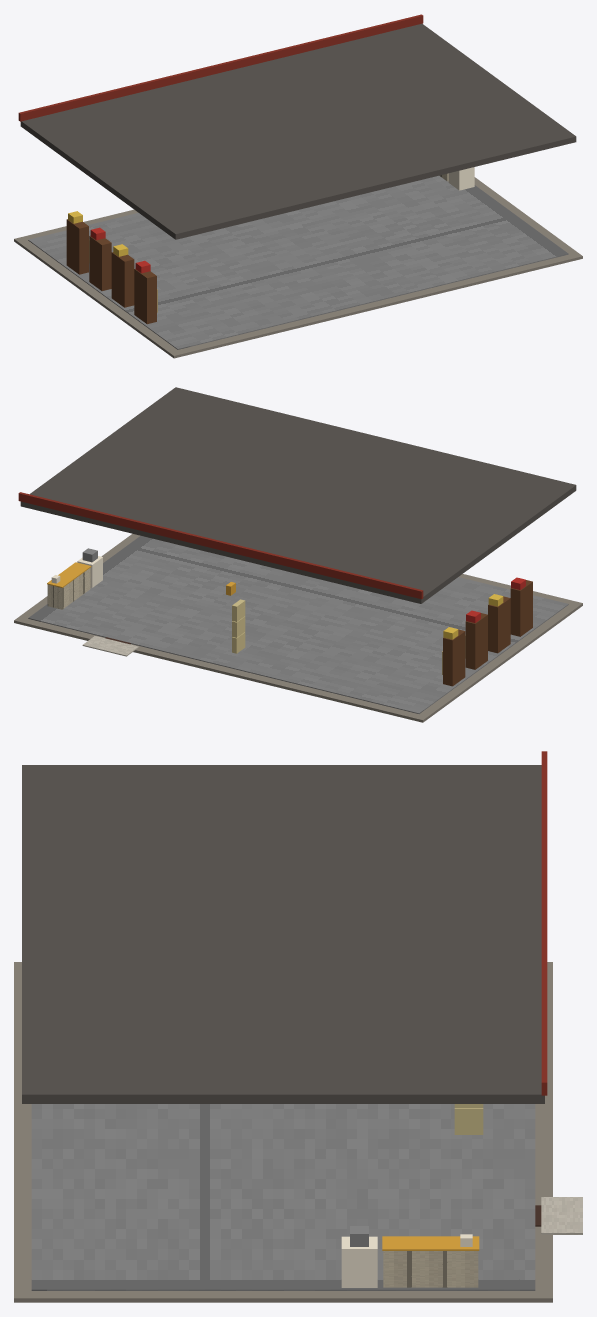
Rendered from structure.glb.
The picture shows the model from 3 angles, top to bottom: view 1: azimuth 30°, elevation 25°; view 2: azimuth 150°, elevation 25°; view 3: azimuth 270°, elevation 25°; orthographic projection. The views are drawn at different scales.
Parts seen in each view (by area): view 1: Box6, Box2, Box1, Box7, Box14, Box8, Box17, Box11, Box26; view 2: Box6, Box2, Box1, Box7, Box8, Box14, Box17, Box11, Box23, Box5, Box24; view 3: Box6, Box2, Box1, Box23, Box7, Box26, Box5, Box24, Box20.
Part boxes in pixels (x1,y1,x2,y2): Box6: (20, 23, 576, 239); Box2: (28, 175, 568, 349); Box1: (14, 177, 582, 358); Box7: (18, 14, 423, 121); Box14: (111, 252, 134, 307); Box8: (66, 219, 88, 274); Box17: (134, 268, 156, 324); Box11: (89, 235, 111, 290); Box26: (448, 167, 474, 190); Box6: (20, 387, 576, 603); Box2: (28, 536, 568, 713); Box1: (14, 533, 582, 722); Box7: (18, 492, 423, 599); Box8: (443, 629, 465, 686); Box14: (488, 596, 510, 653); Box17: (510, 580, 532, 636); Box11: (465, 613, 487, 669); Box23: (47, 568, 90, 609); Box5: (82, 636, 138, 656); Box24: (47, 562, 91, 587); Box6: (22, 765, 544, 1103); Box2: (31, 1104, 535, 1290); Box1: (14, 962, 552, 1302); Box23: (383, 1251, 478, 1287); Box7: (541, 751, 547, 1095); Box26: (341, 1236, 377, 1287); Box5: (541, 1197, 582, 1234); Box24: (382, 1236, 479, 1250); Box20: (454, 1108, 483, 1134).
Size of the model in its own units: 16.74 by 5.05 by 11.97.
16 materials, 3 textured.
